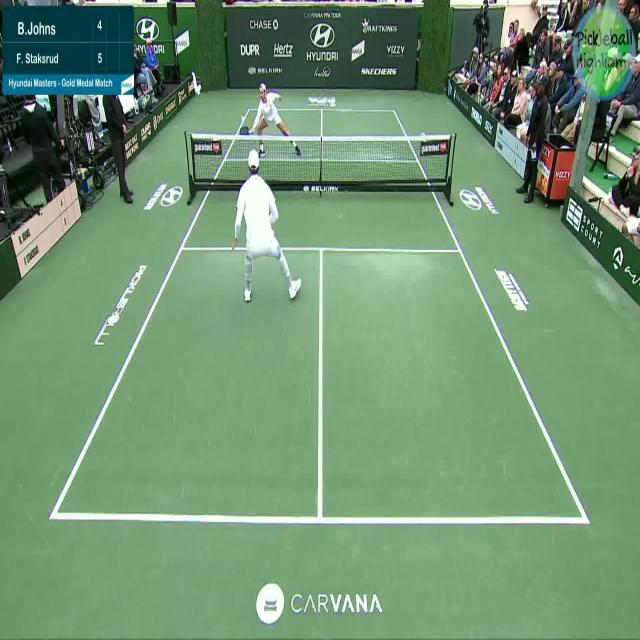ball: (240, 112, 247, 124)
